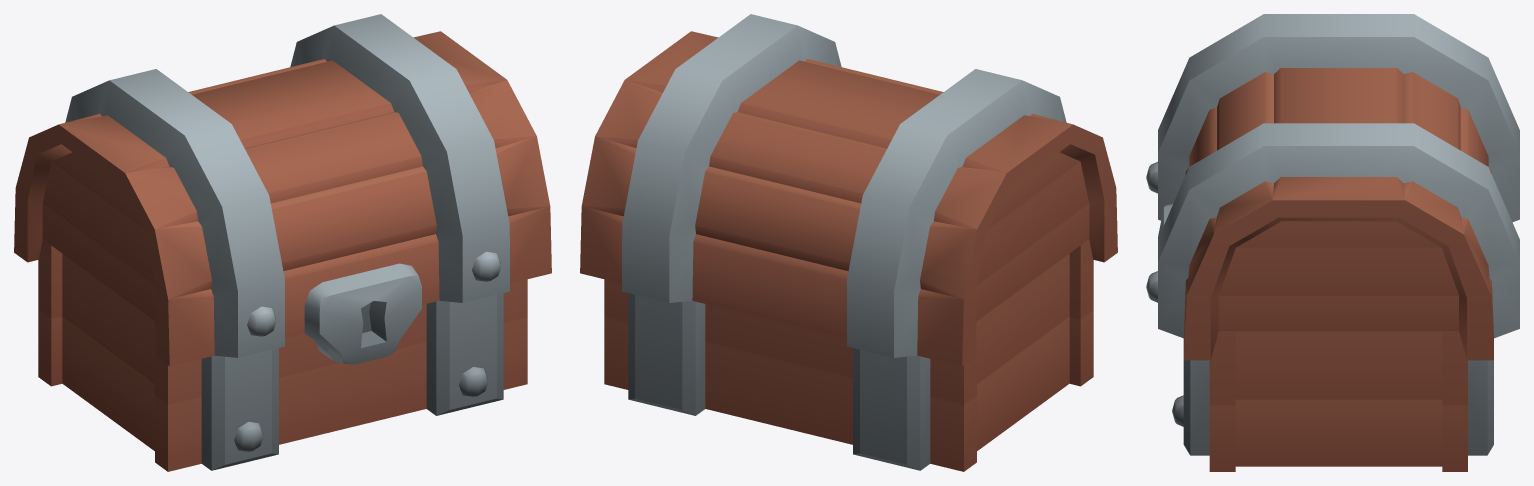
The model's file is chest.glb.
The picture shows the model from 3 angles, left to right: view 1: azimuth 30°, elevation 25°; view 2: azimuth 150°, elevation 25°; view 3: azimuth 270°, elevation 25°; orthographic projection.
Visible parts, largest first — view 1: chest_gold_lid, chest_gold; view 2: chest_gold_lid, chest_gold; view 3: chest_gold_lid, chest_gold.
Boxes of the visible parts, box(x1,y1,x2,y2) form: chest_gold_lid: box(14, 14, 551, 366); chest_gold: box(38, 239, 527, 471); chest_gold_lid: box(580, 14, 1117, 366); chest_gold: box(604, 239, 1093, 471); chest_gold_lid: box(1146, 14, 1519, 360); chest_gold: box(1172, 331, 1493, 471).
Bounding box in the file's own units: 1.7 × 1.3 × 1.45.
Materials: 1 (1 with a texture image).
